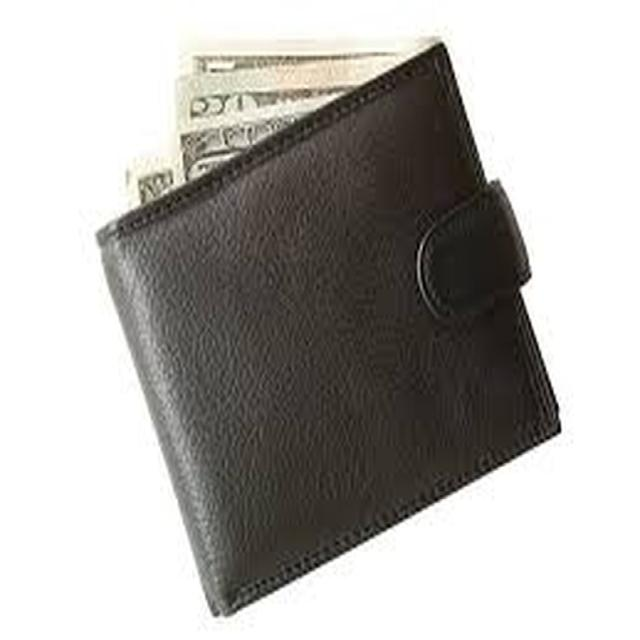wallet: (61, 12, 584, 628)
